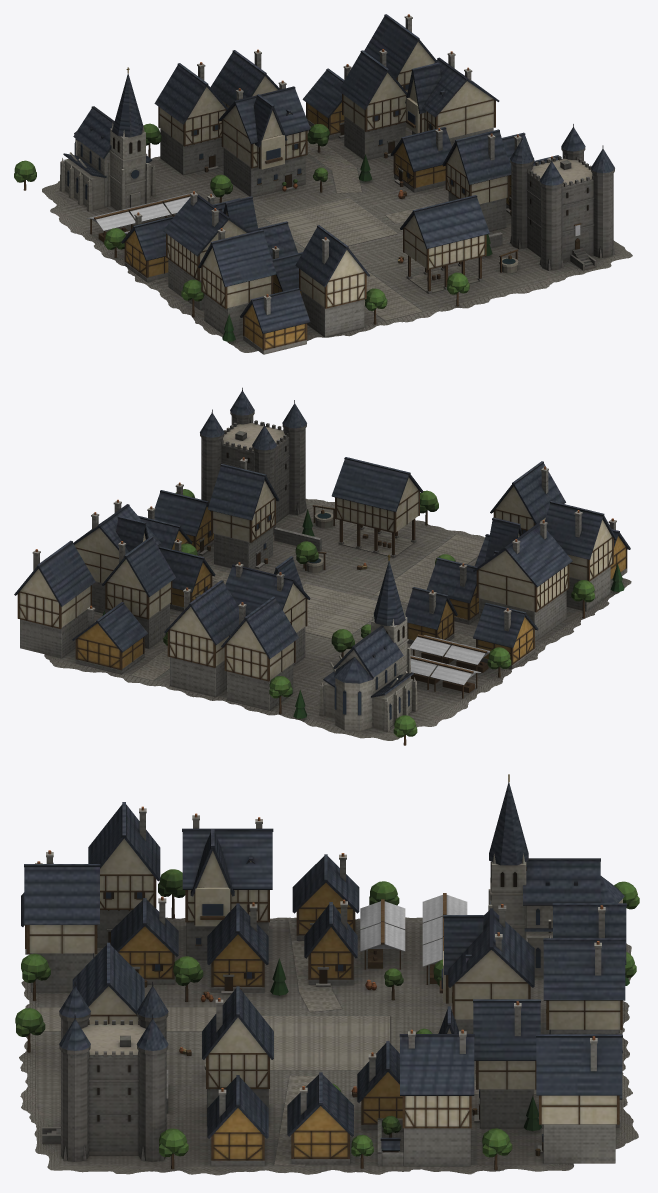
File: kingdoms-town-medium-b-europe.glb
3 renders of one model, top to bottom at view 1: azimuth 30°, elevation 25°; view 2: azimuth 150°, elevation 25°; view 3: azimuth 270°, elevation 25°, orthographic. The views are drawn at different scales.
Visible parts, largest first — view 1: LOD0; view 2: LOD0; view 3: LOD0.
Boxes of the visible parts, x1=… form: LOD0: x1=14, y1=14, x2=632, y2=354; LOD0: x1=14, y1=387, x2=631, y2=745; LOD0: x1=15, y1=774, x2=639, y2=1175.
Size of what is drawn, in the model's own units: 6.05 by 1.99 by 6.09.
3 materials, 3 textured.
